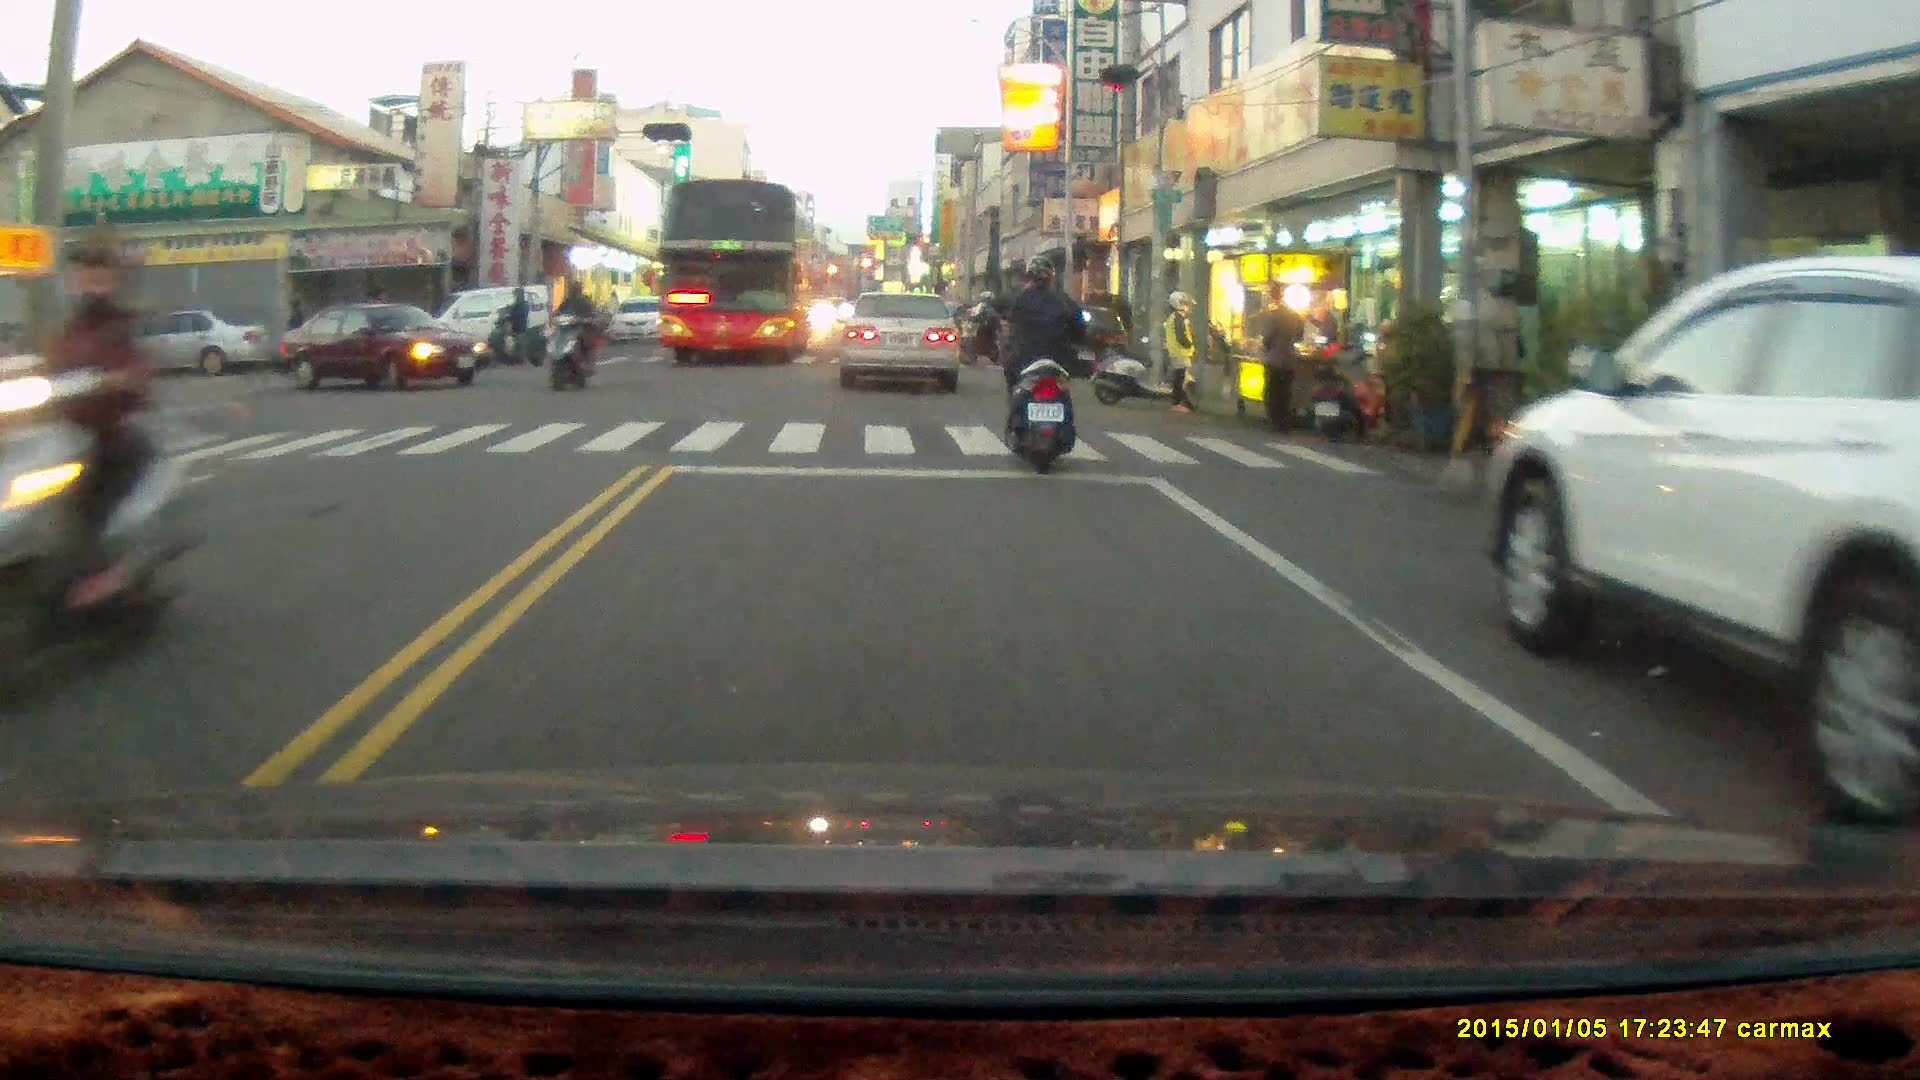pedestrian: (1257, 280, 1303, 436), (1159, 282, 1198, 411), (283, 293, 310, 369)
rider: (0, 236, 207, 700), (991, 248, 1095, 471), (546, 277, 598, 395), (482, 283, 544, 364), (958, 289, 1012, 369)
vehicle: (1477, 253, 1920, 830), (657, 182, 814, 372), (283, 301, 485, 391), (77, 311, 258, 387), (839, 289, 965, 396), (421, 285, 564, 373), (1038, 302, 1135, 377), (609, 295, 678, 345)
